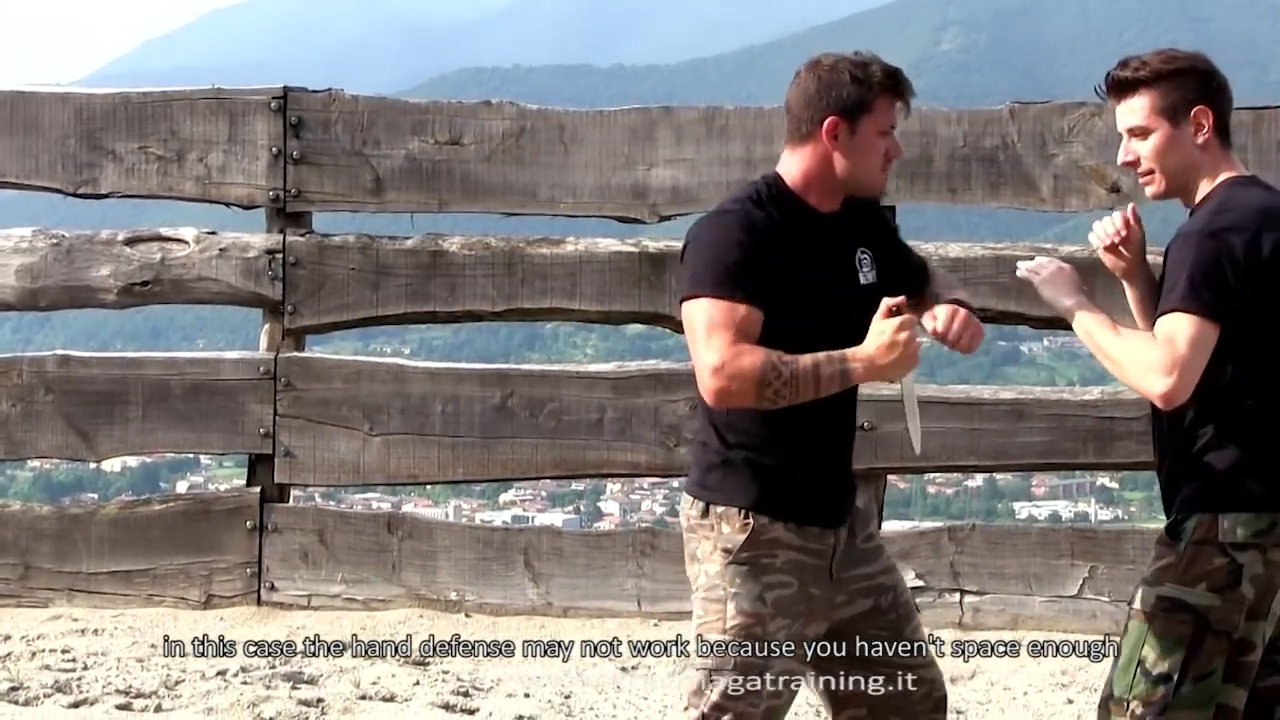knife: (867, 312, 931, 459)
